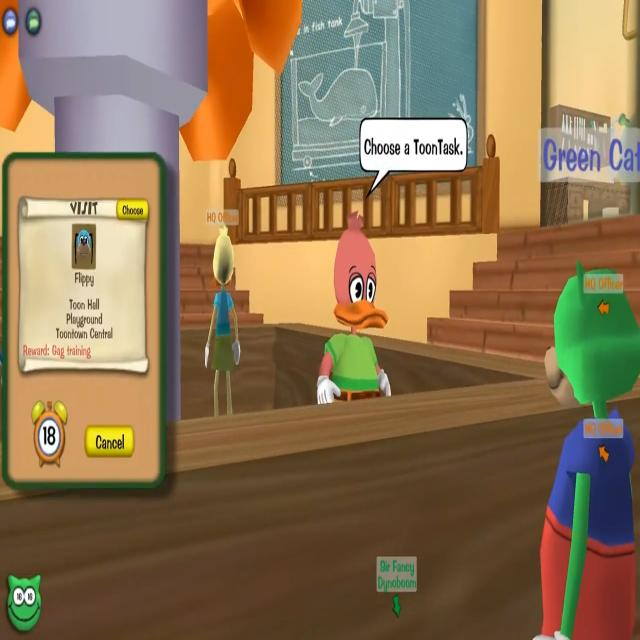npc: (314, 117, 472, 406), (200, 192, 242, 412)
